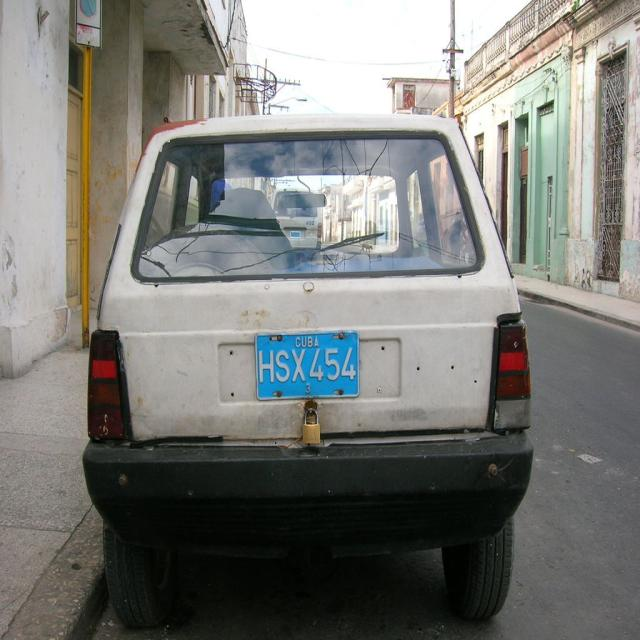car: (83, 112, 535, 627)
